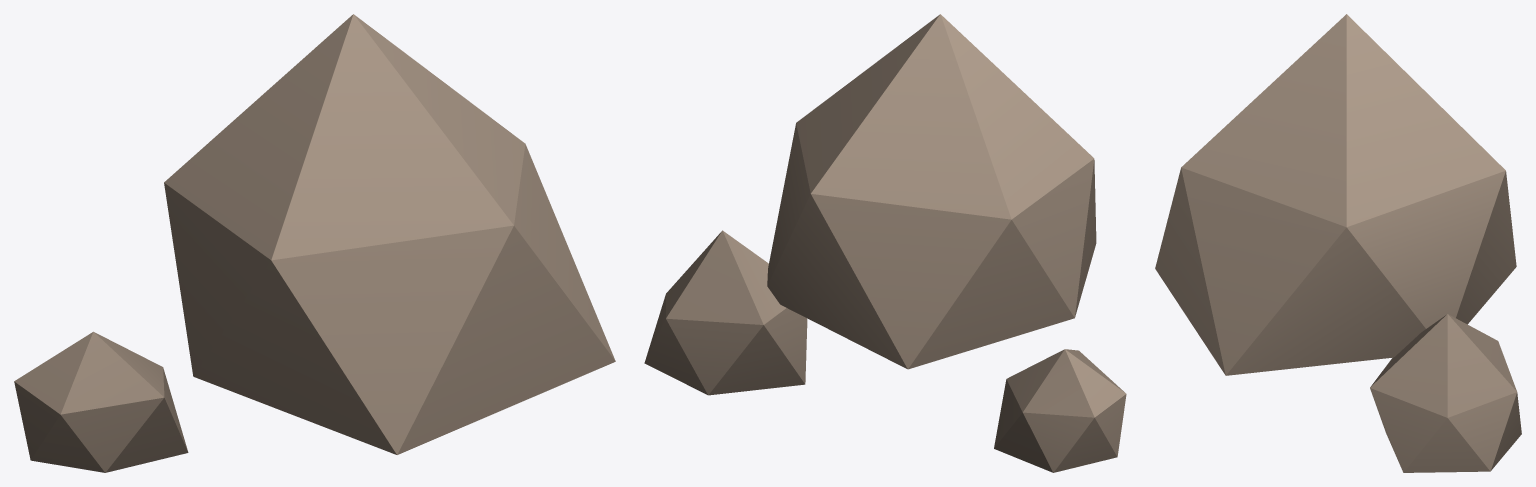
File: mil_rock_2.glb
The picture shows the model from 3 angles, left to right: view 1: azimuth 30°, elevation 25°; view 2: azimuth 150°, elevation 25°; view 3: azimuth 270°, elevation 25°; orthographic projection. The views are drawn at different scales.
Parts seen in each view (by area): view 1: mil_rock_2; view 2: mil_rock_2; view 3: mil_rock_2.
Part boxes in pixels (x1=…): mil_rock_2: x1=14, y1=14, x2=615, y2=472; mil_rock_2: x1=644, y1=14, x2=1126, y2=472; mil_rock_2: x1=1155, y1=14, x2=1521, y2=472.
Bounding box in the file's own units: 2.69 × 2.12 × 1.91.
